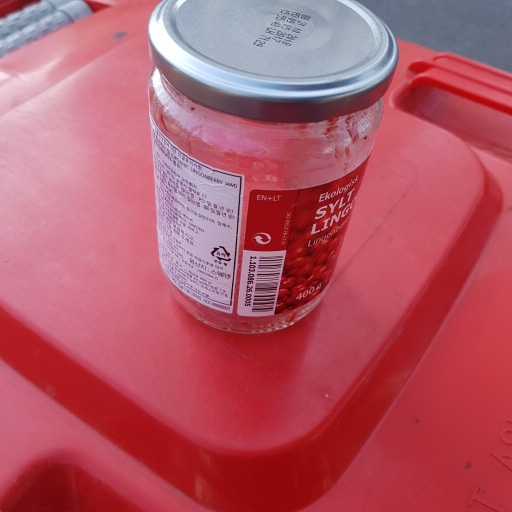Glass_5: (144, 2, 400, 337)
